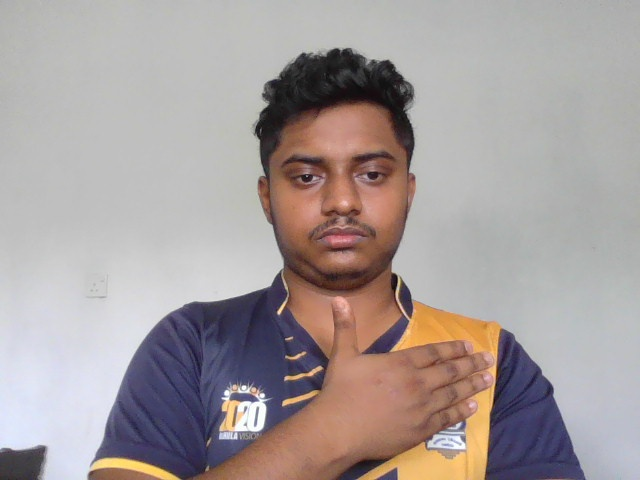Please: (307, 296, 495, 468)
